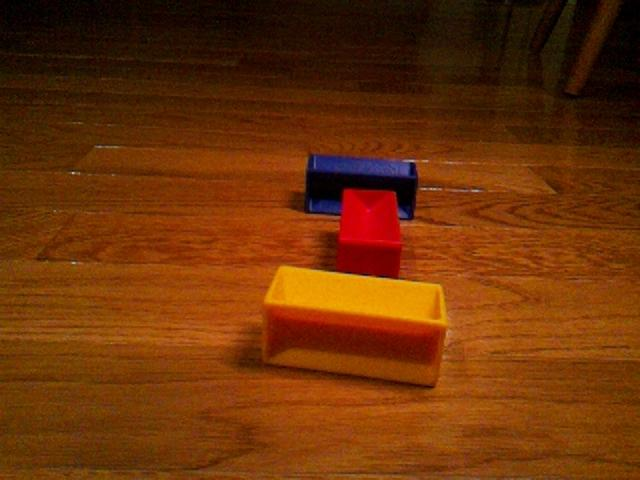blue: (303, 152, 420, 221)
red: (335, 187, 404, 278)
yellow: (260, 263, 450, 388)
